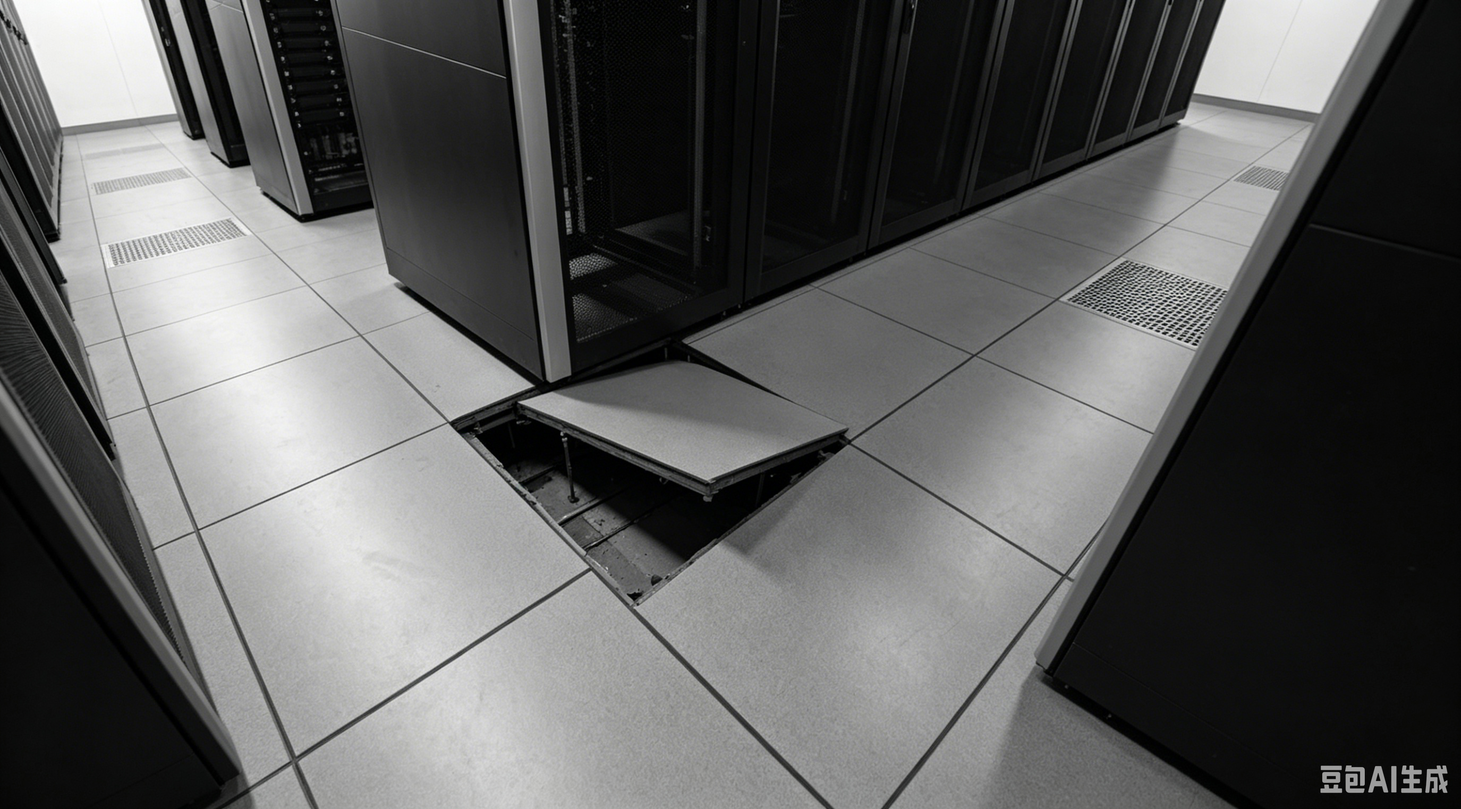floor_defect: (424, 347, 880, 605)
